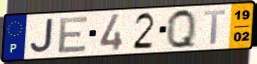2: (133, 12, 158, 51)
4: (98, 12, 125, 53)
E: (56, 15, 90, 55)
J: (29, 17, 55, 55)
Q: (165, 7, 198, 50)
T: (202, 9, 228, 46)
